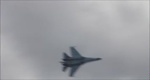maybay_muctieu: (60, 46, 100, 75)
